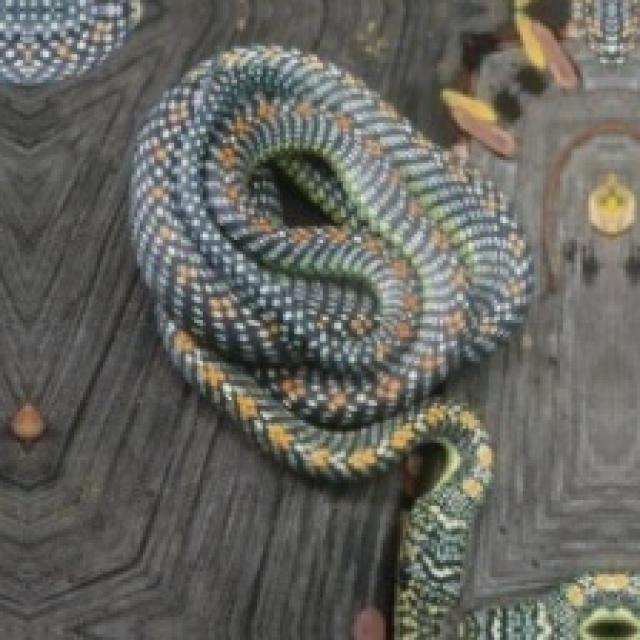paradise tree snake: (131, 46, 529, 623), (131, 46, 529, 477)
